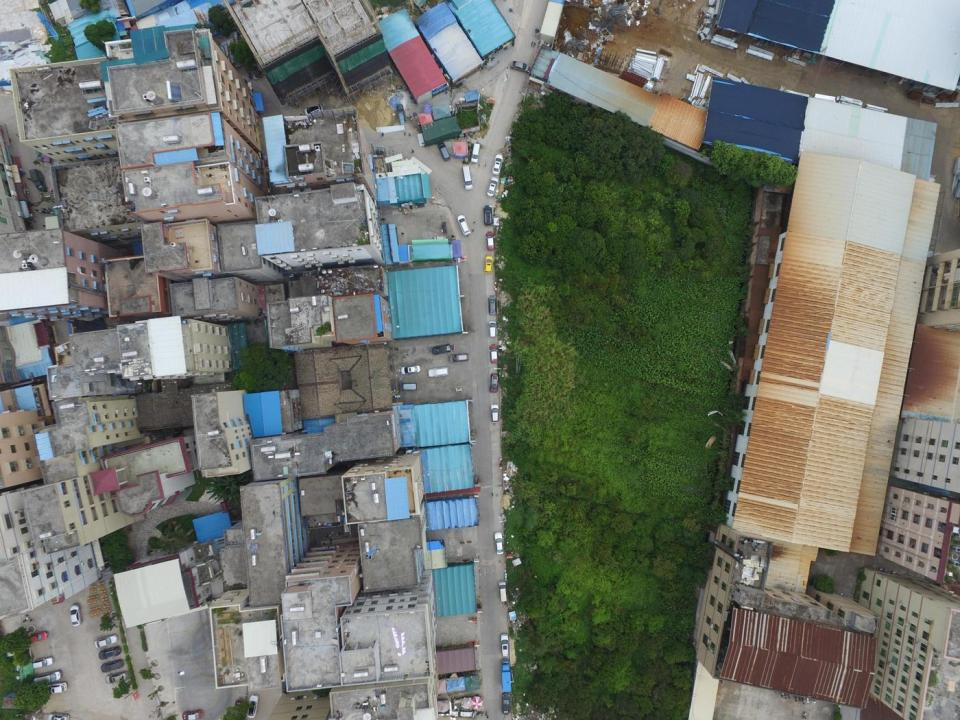car: (94, 634, 119, 648), (69, 602, 83, 626), (98, 646, 121, 660), (101, 659, 124, 673), (246, 694, 259, 718), (105, 671, 128, 684), (26, 630, 49, 643), (45, 681, 67, 694), (510, 60, 531, 73), (486, 176, 499, 197), (457, 215, 470, 236), (303, 103, 324, 116), (493, 154, 504, 176), (427, 367, 449, 378), (499, 633, 510, 655), (500, 693, 511, 715), (429, 344, 453, 354), (183, 709, 204, 720), (494, 532, 504, 555), (482, 205, 492, 226), (486, 231, 496, 252), (398, 366, 421, 375), (47, 711, 69, 720), (489, 344, 498, 364), (489, 373, 498, 393), (488, 320, 497, 338), (490, 404, 499, 422), (484, 256, 494, 272), (488, 295, 496, 315)
truck: (500, 658, 512, 693), (396, 103, 406, 125)
van: (33, 670, 64, 686), (462, 165, 473, 190), (33, 655, 53, 668), (438, 142, 450, 161), (448, 354, 470, 363), (398, 382, 419, 391), (498, 581, 507, 602), (471, 143, 479, 164)
